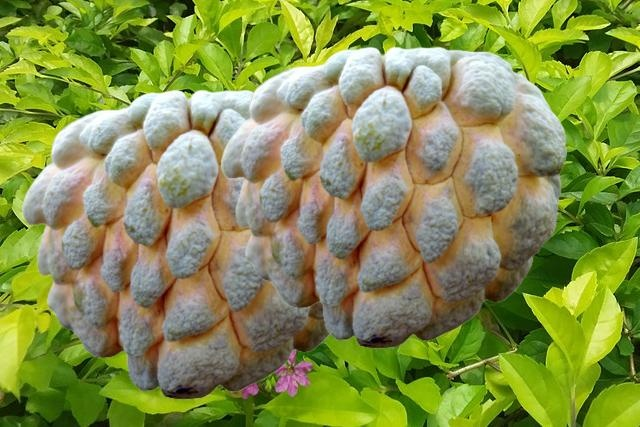atis: (221, 46, 565, 347), (22, 89, 330, 398)
